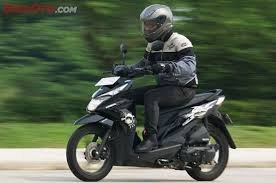motor: (63, 76, 235, 181)
